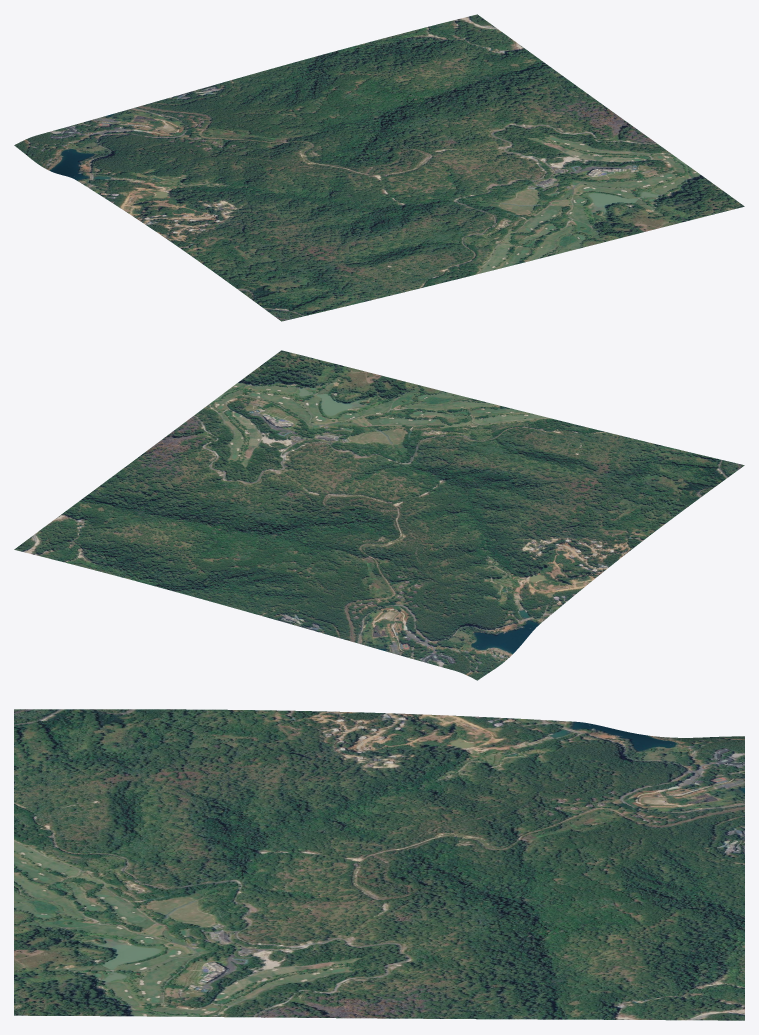
File: terrain_real_T_E00_S03.glb
The picture shows the model from 3 angles, top to bottom: view 1: azimuth 30°, elevation 25°; view 2: azimuth 150°, elevation 25°; view 3: azimuth 270°, elevation 25°; orthographic projection. The views are drawn at different scales.
Parts seen in each view (by area): view 1: TerrainReal_T_E00_S03; view 2: TerrainReal_T_E00_S03; view 3: TerrainReal_T_E00_S03.
Part boxes in pixels (bbox=[...]): TerrainReal_T_E00_S03: bbox=[14, 14, 744, 321]; TerrainReal_T_E00_S03: bbox=[14, 350, 744, 680]; TerrainReal_T_E00_S03: bbox=[14, 709, 744, 1020].
Size of the model in its own units: 2000 by 93.7 by 2000.
Materials: 1 (1 with a texture image).
